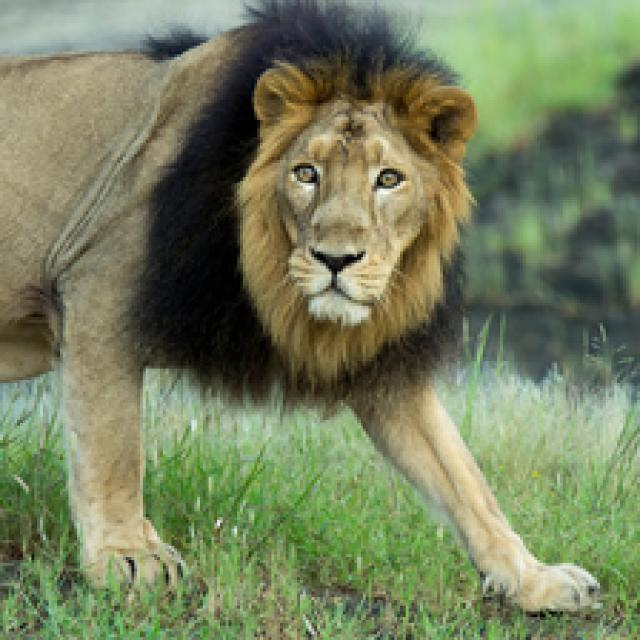lion: (0, 23, 586, 608)
